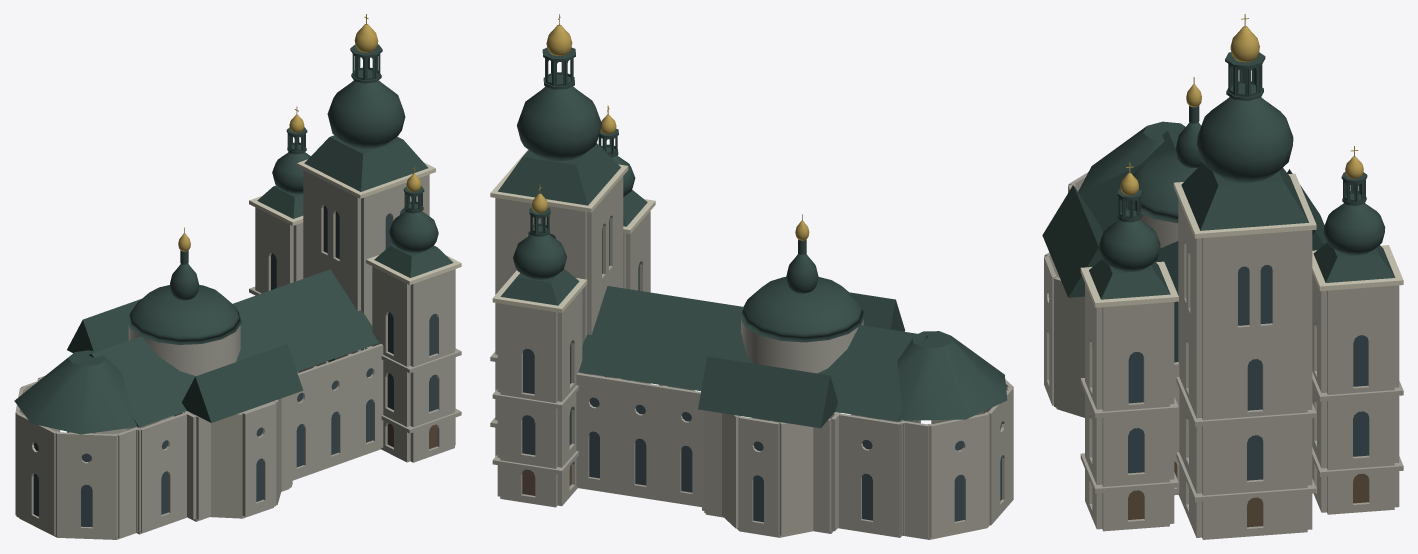
File: cathedral-transfiguration-markham-far.glb
The picture shows the model from 3 angles, left to right: view 1: azimuth 30°, elevation 25°; view 2: azimuth 150°, elevation 25°; view 3: azimuth 270°, elevation 25°; orthographic projection. The views are drawn at different scales.
Visible parts, largest first — view 1: cathedral-transfiguration-markham-0-stone, cathedral-transfiguration-markham-0-copper, cathedral-transfiguration-markham-0-glass, cathedral-transfiguration-markham-0-trim, cathedral-transfiguration-markham-0-gold; view 2: cathedral-transfiguration-markham-0-stone, cathedral-transfiguration-markham-0-copper, cathedral-transfiguration-markham-0-glass, cathedral-transfiguration-markham-0-trim, cathedral-transfiguration-markham-0-gold; view 3: cathedral-transfiguration-markham-0-stone, cathedral-transfiguration-markham-0-copper, cathedral-transfiguration-markham-0-glass, cathedral-transfiguration-markham-0-trim, cathedral-transfiguration-markham-0-gold, cathedral-transfiguration-markham-0-door.
Boxes of the visible parts, x1=… form: cathedral-transfiguration-markham-0-stone: x1=15, y1=170, x2=461, y2=539; cathedral-transfiguration-markham-0-copper: x1=14, y1=44, x2=453, y2=434; cathedral-transfiguration-markham-0-glass: x1=33, y1=205, x2=437, y2=527; cathedral-transfiguration-markham-0-trim: x1=249, y1=159, x2=461, y2=285; cathedral-transfiguration-markham-0-gold: x1=178, y1=14, x2=421, y2=251; cathedral-transfiguration-markham-0-stone: x1=490, y1=176, x2=1013, y2=539; cathedral-transfiguration-markham-0-copper: x1=498, y1=47, x2=1007, y2=428; cathedral-transfiguration-markham-0-glass: x1=522, y1=219, x2=1001, y2=522; cathedral-transfiguration-markham-0-trim: x1=490, y1=150, x2=655, y2=312; cathedral-transfiguration-markham-0-gold: x1=531, y1=14, x2=809, y2=240; cathedral-transfiguration-markham-0-stone: x1=1044, y1=172, x2=1403, y2=539; cathedral-transfiguration-markham-0-copper: x1=1042, y1=52, x2=1395, y2=362; cathedral-transfiguration-markham-0-glass: x1=1128, y1=265, x2=1368, y2=480; cathedral-transfiguration-markham-0-trim: x1=1080, y1=173, x2=1403, y2=307; cathedral-transfiguration-markham-0-gold: x1=1120, y1=14, x2=1363, y2=195; cathedral-transfiguration-markham-0-door: x1=1128, y1=461, x2=1368, y2=527.
Bounding box in the file's own units: 71.18 × 64 × 42.13.
